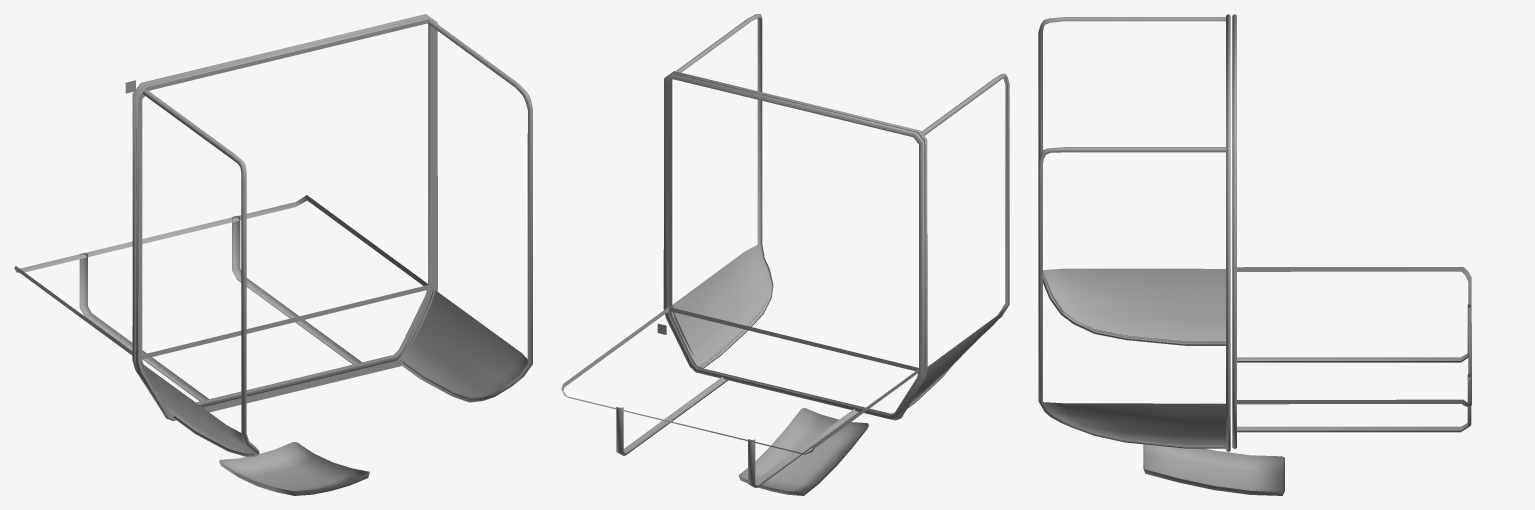
Rendered from MeshCoffeeMachine_4_0_GeomSubset_1.obj.
3 views of the same model, side by side, from view 1: azimuth 30°, elevation 25°; view 2: azimuth 150°, elevation 25°; view 3: azimuth 270°, elevation 25° (orthographic). The views are drawn at different scales.
Visible parts, largest first — view 1: MeshCoffeeMachine_4_0_GeomSubset_1; view 2: MeshCoffeeMachine_4_0_GeomSubset_1; view 3: MeshCoffeeMachine_4_0_GeomSubset_1.
Part boxes in pixels (x1=…): MeshCoffeeMachine_4_0_GeomSubset_1: x1=14, y1=14, x2=532, y2=495; MeshCoffeeMachine_4_0_GeomSubset_1: x1=561, y1=14, x2=1009, y2=495; MeshCoffeeMachine_4_0_GeomSubset_1: x1=1038, y1=14, x2=1471, y2=495.
Bounding box in the file's own units: 0.2872 × 0.3923 × 0.4246.
